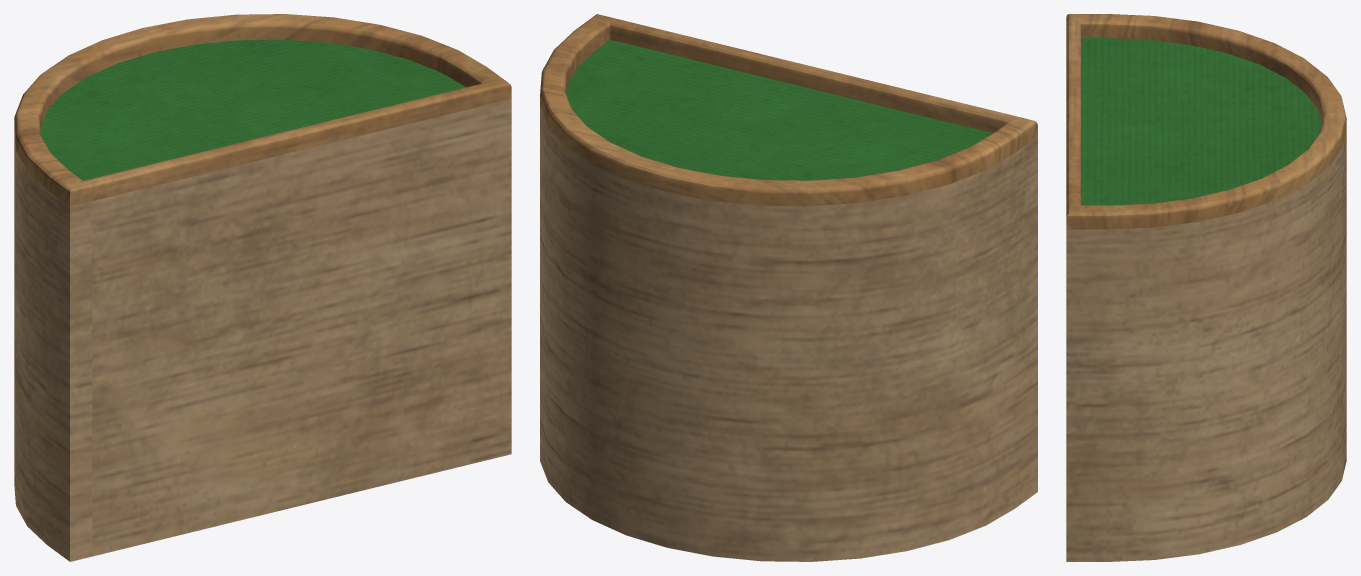
The model's file is Blackjack_Table_low Textured.fbx.
The picture shows the model from 3 angles, left to right: view 1: azimuth 30°, elevation 25°; view 2: azimuth 150°, elevation 25°; view 3: azimuth 270°, elevation 25°; orthographic projection. The views are drawn at different scales.
Visible parts, largest first — view 1: Blackjack_low; view 2: Blackjack_low; view 3: Blackjack_low.
Part boxes in pixels (x1,y1,x2,y2): Blackjack_low: (14,14,511,561); Blackjack_low: (540,14,1037,561); Blackjack_low: (1066,14,1346,561).
Bounding box in the file's own units: 3.74 × 3.02 × 2.2.
